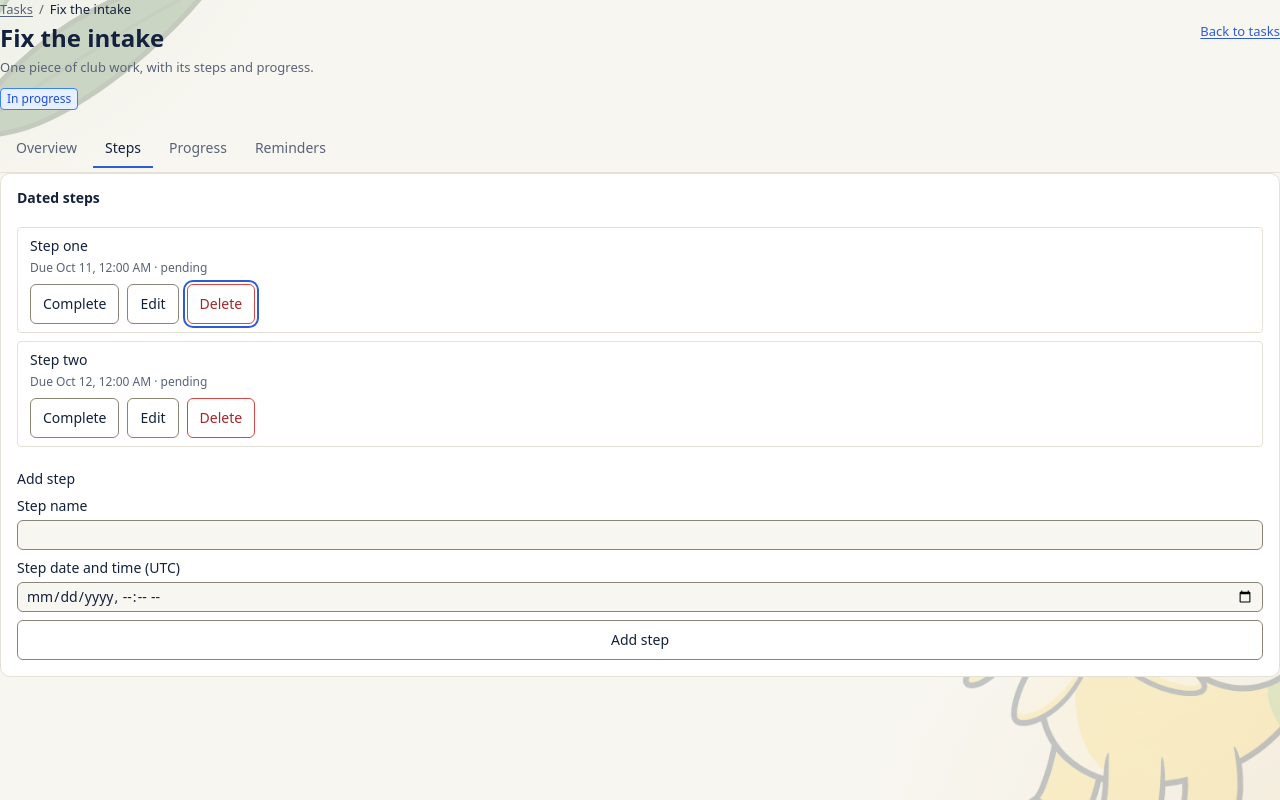
Test: R1 destructive confirmations (detail) › step Delete: first activation writes nothing, Cancel focused, Escape and Cancel restore the opener
The image size is (1280, 800).
Press Enter
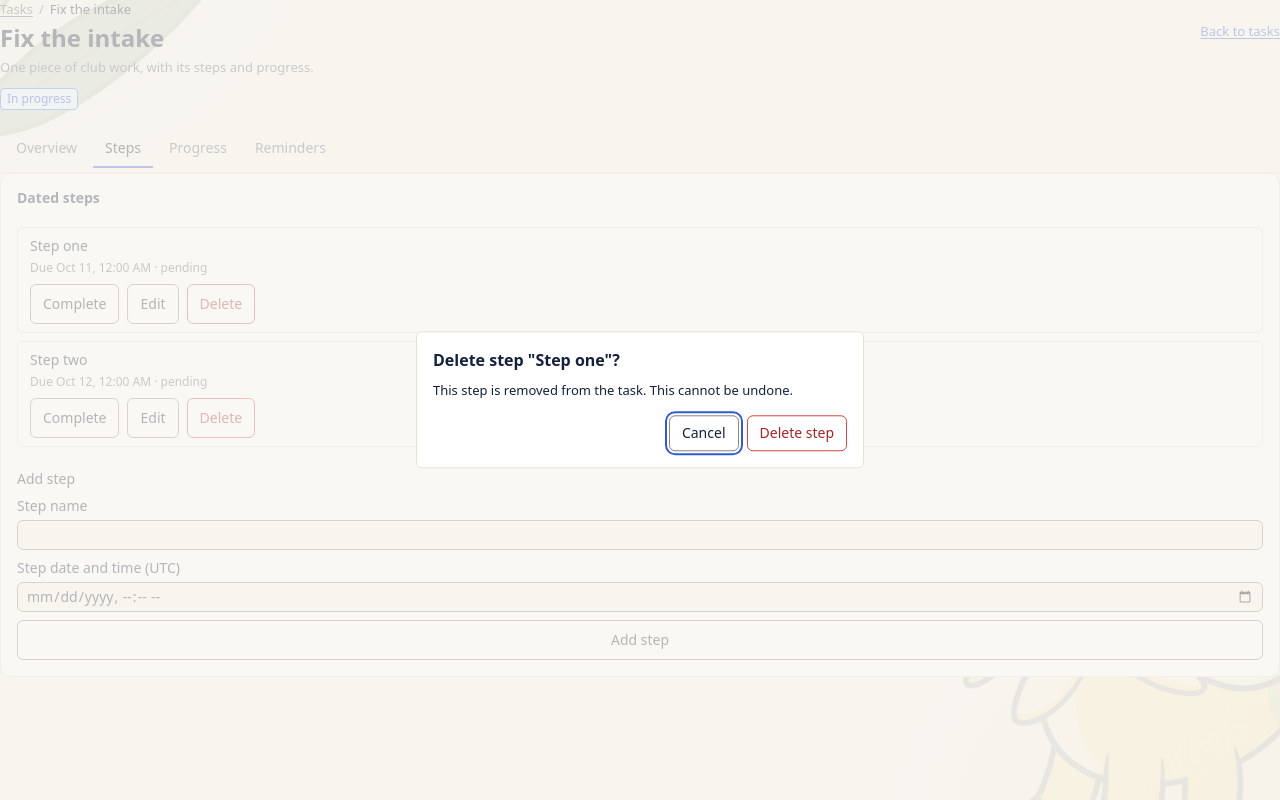
Expected: the heading "Delete step \"Step one\"?" is shown, top-left (433, 349), bottom-right (620, 371)
Press Escape
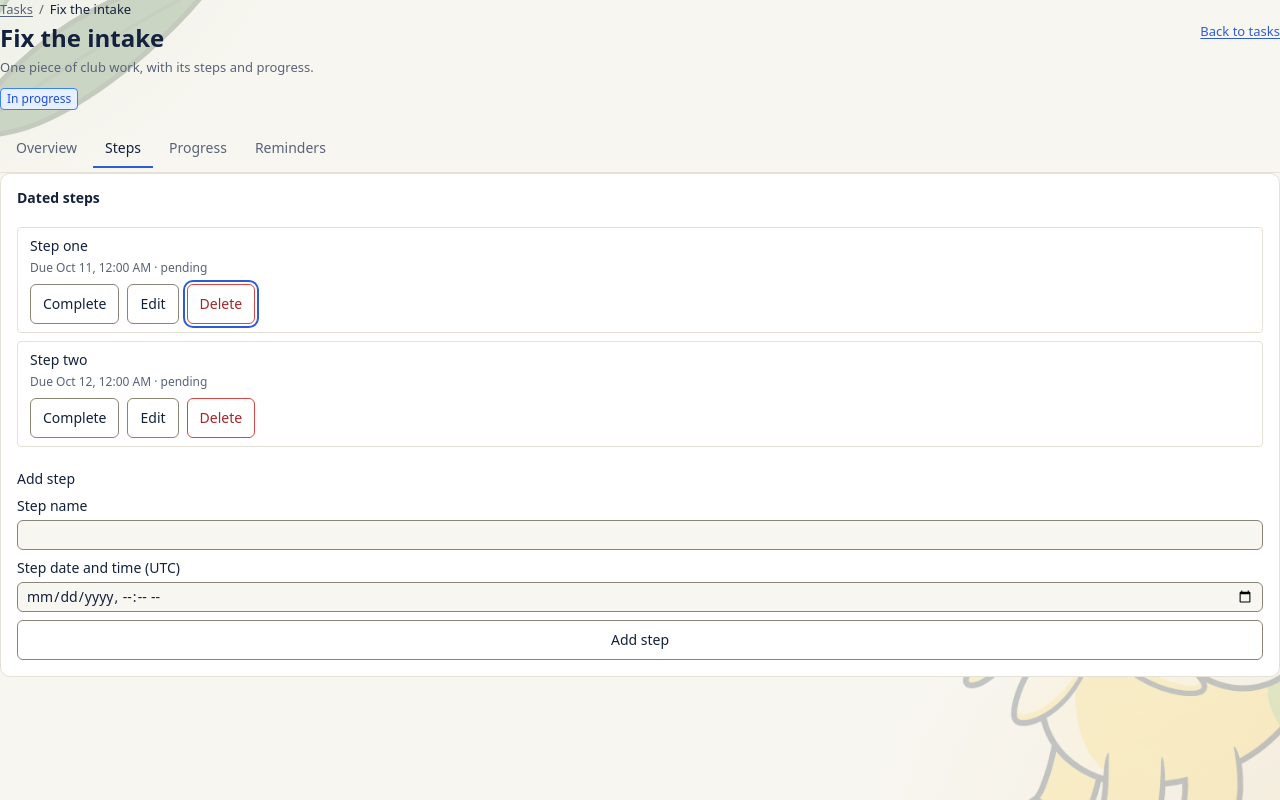
Expected: the dialog is gone
Press Enter
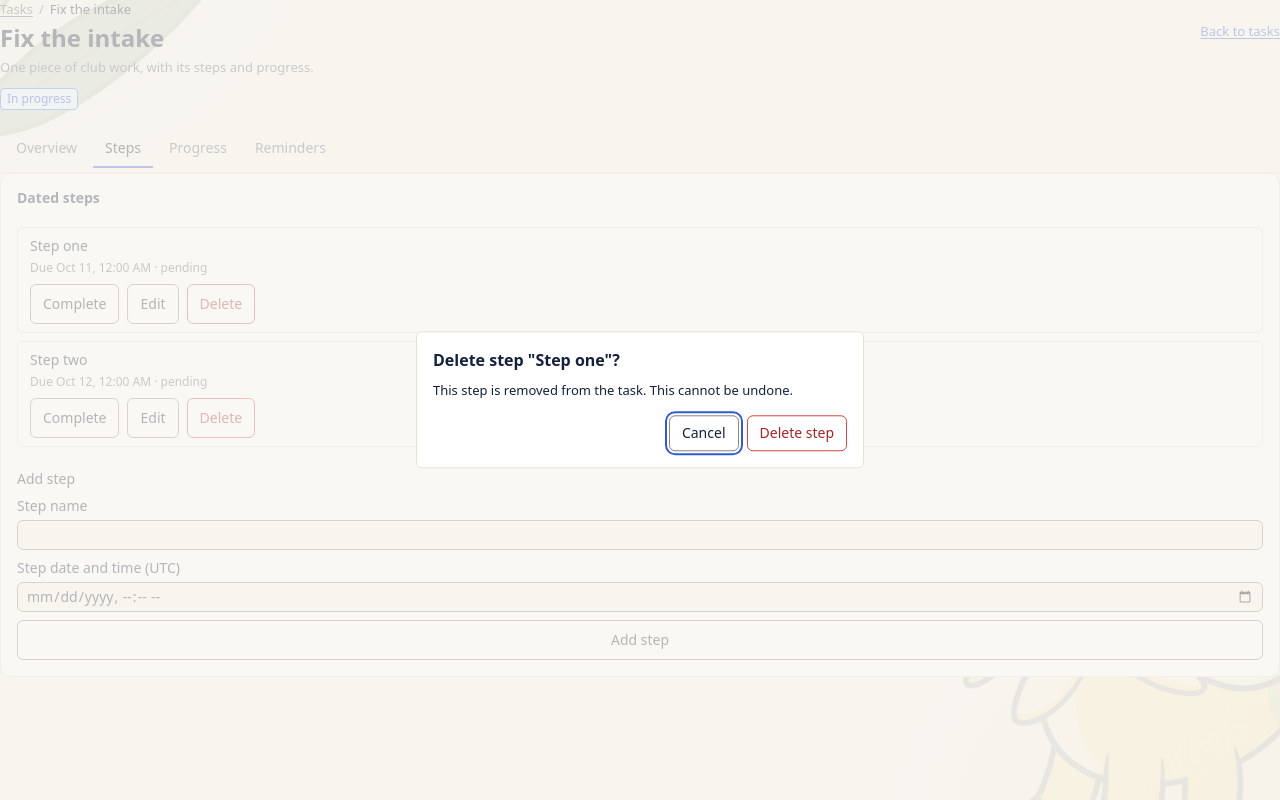
Click the button "Cancel".
click(704, 434)  # box top-left (669, 416), bottom-right (738, 452)
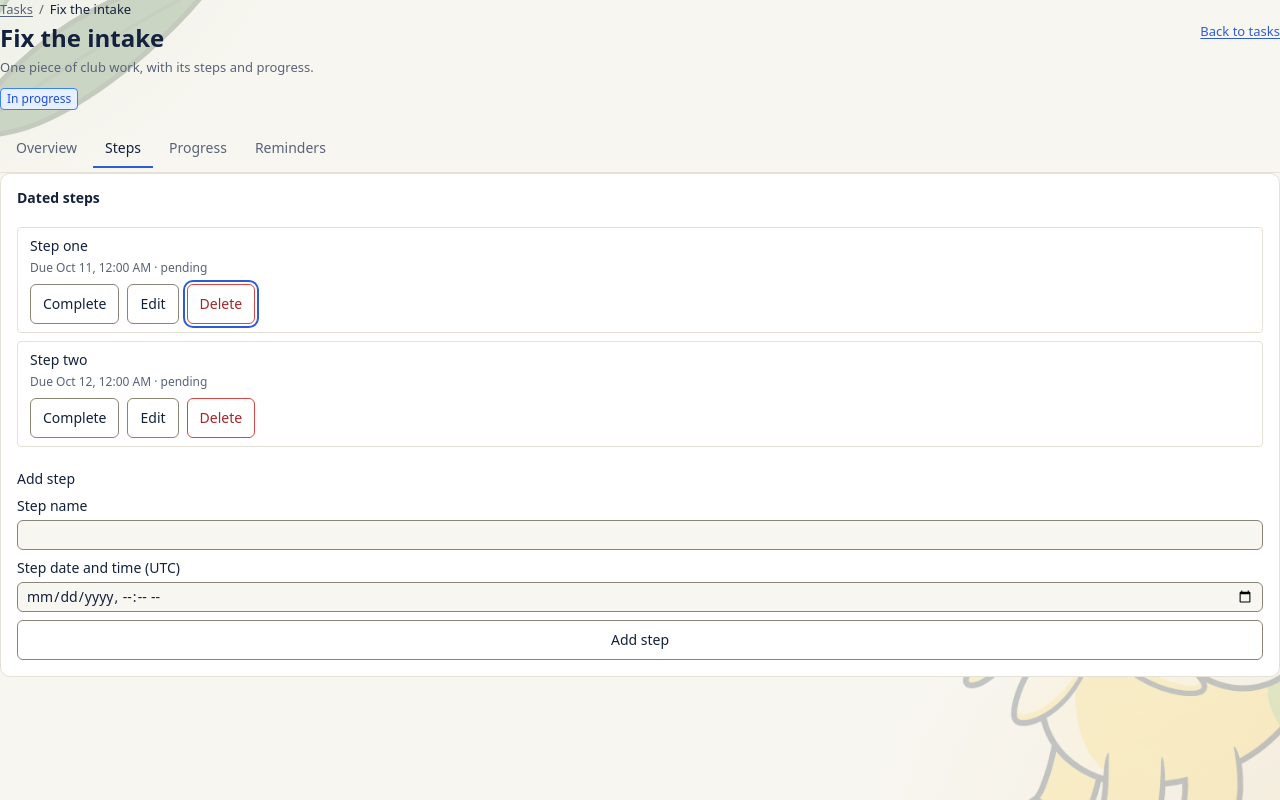
Expected: the dialog is gone
